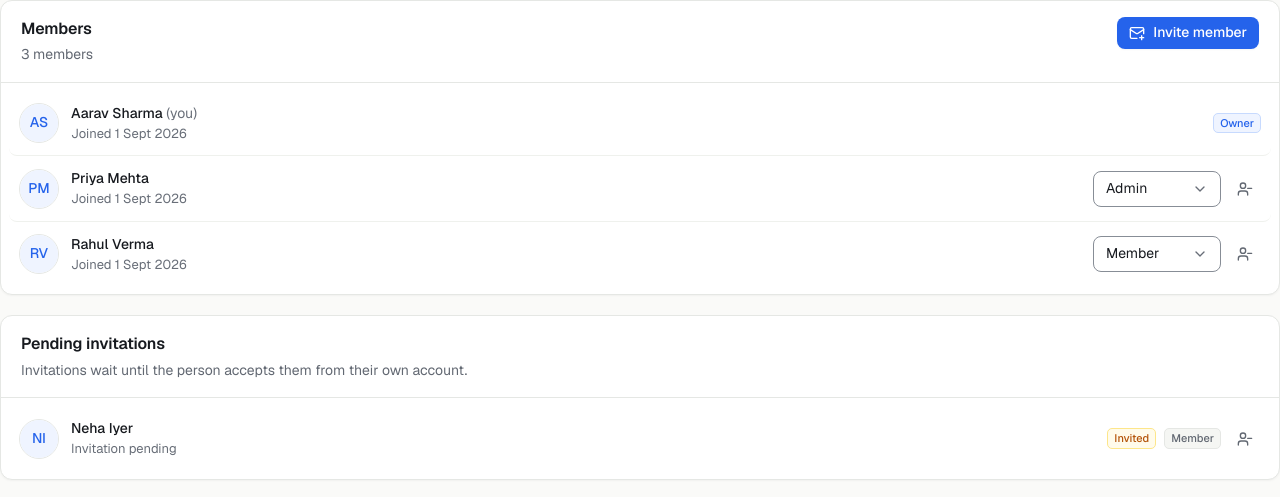
it: TeamManager › shows the server refusal when a change is not allowed
Click the dropdown named "Role for Priya Mehta" at (1157, 189), box [1093, 171, 1221, 207]
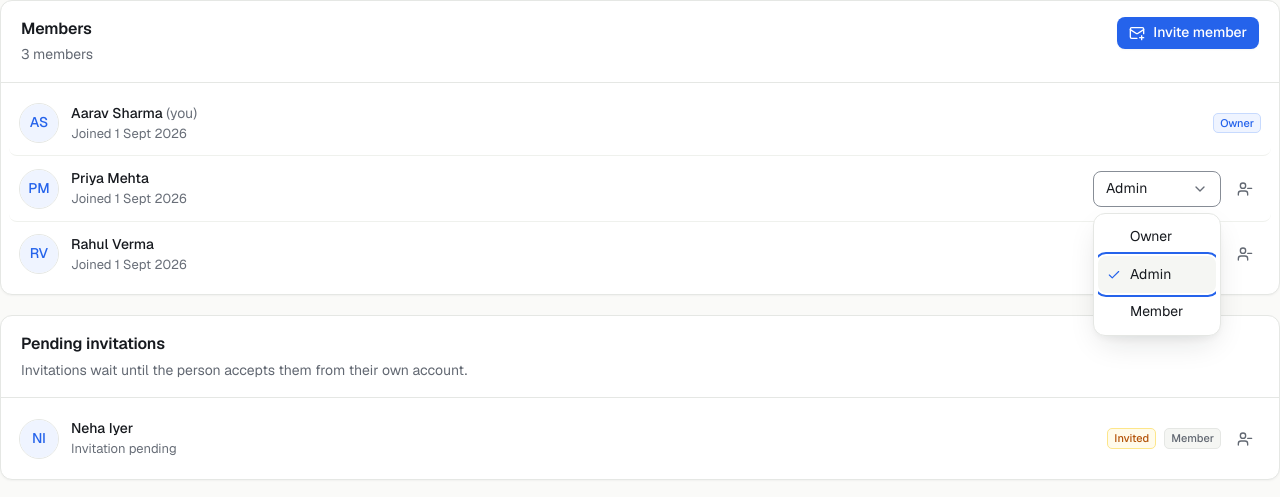
Click the option "Member" at (1157, 311), box [1130, 302, 1183, 320]
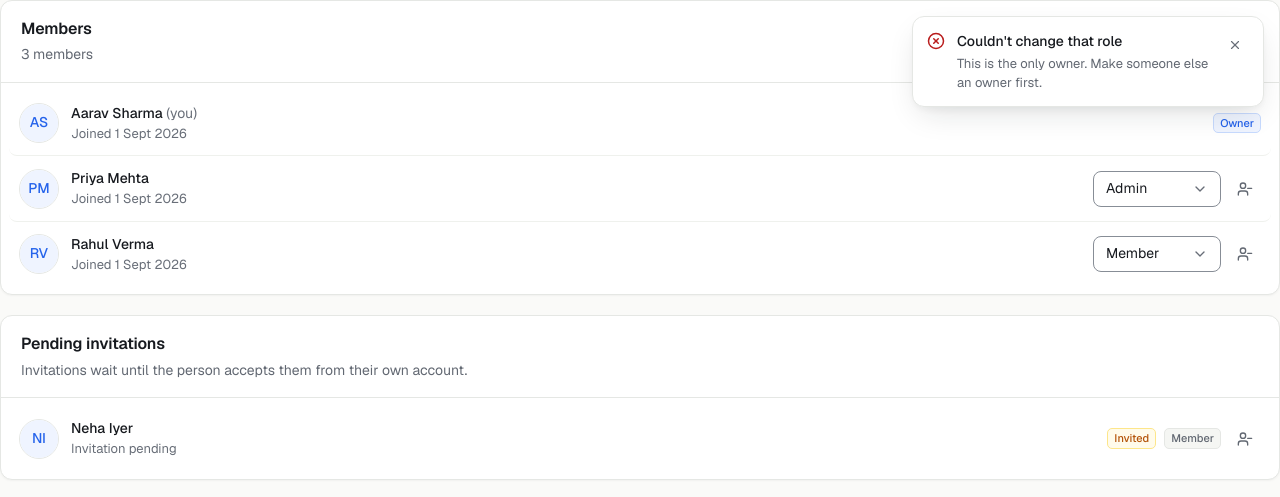
Expected: the text "This is the only owner. Make someone else an owner first." is shown, [957, 55, 1209, 92]
